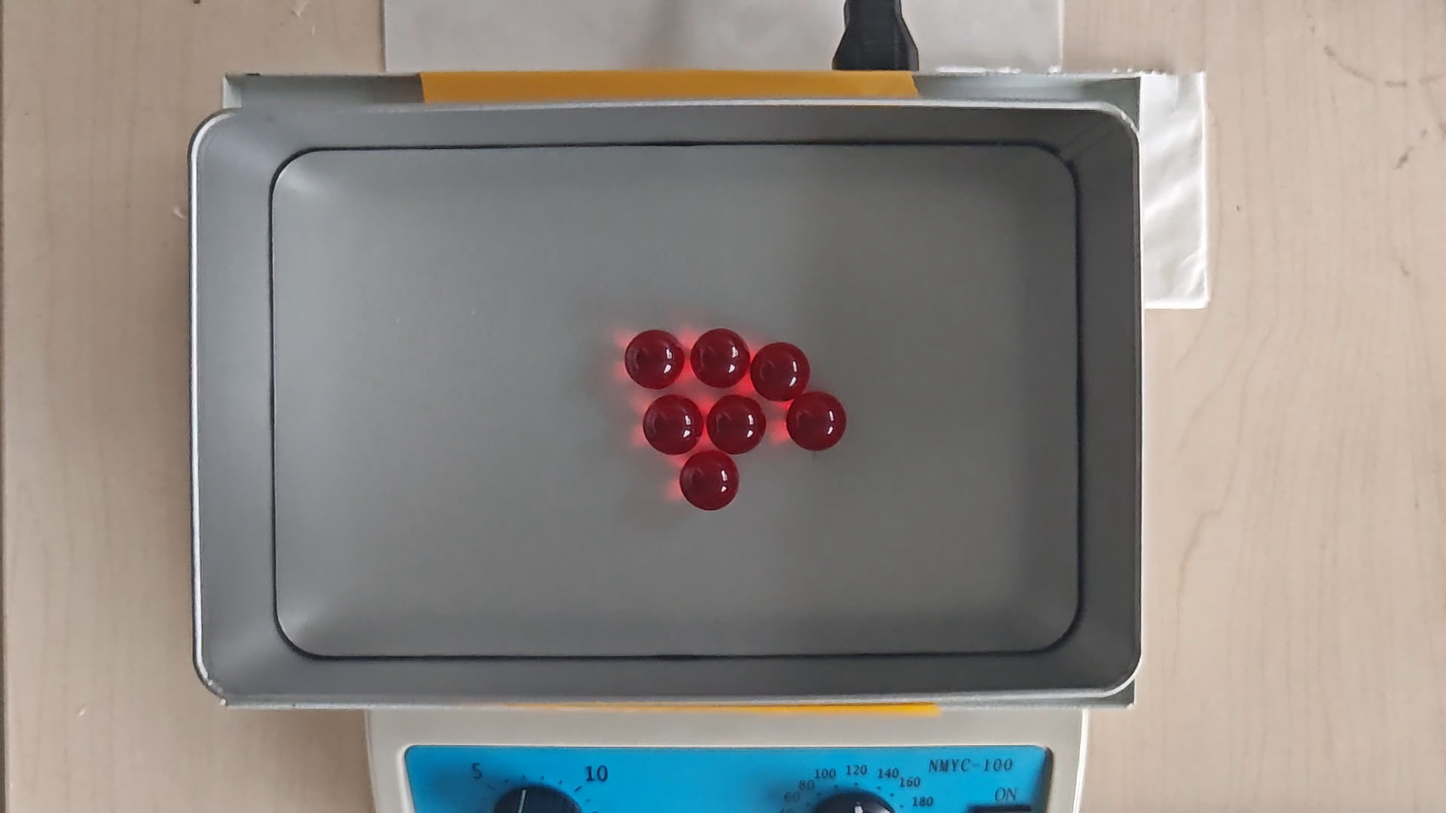ball: (641, 393, 702, 455), (676, 452, 740, 511), (751, 338, 809, 400), (624, 328, 683, 388), (691, 327, 749, 388), (707, 396, 764, 454), (789, 393, 847, 449)
container: (267, 143, 1078, 653)
